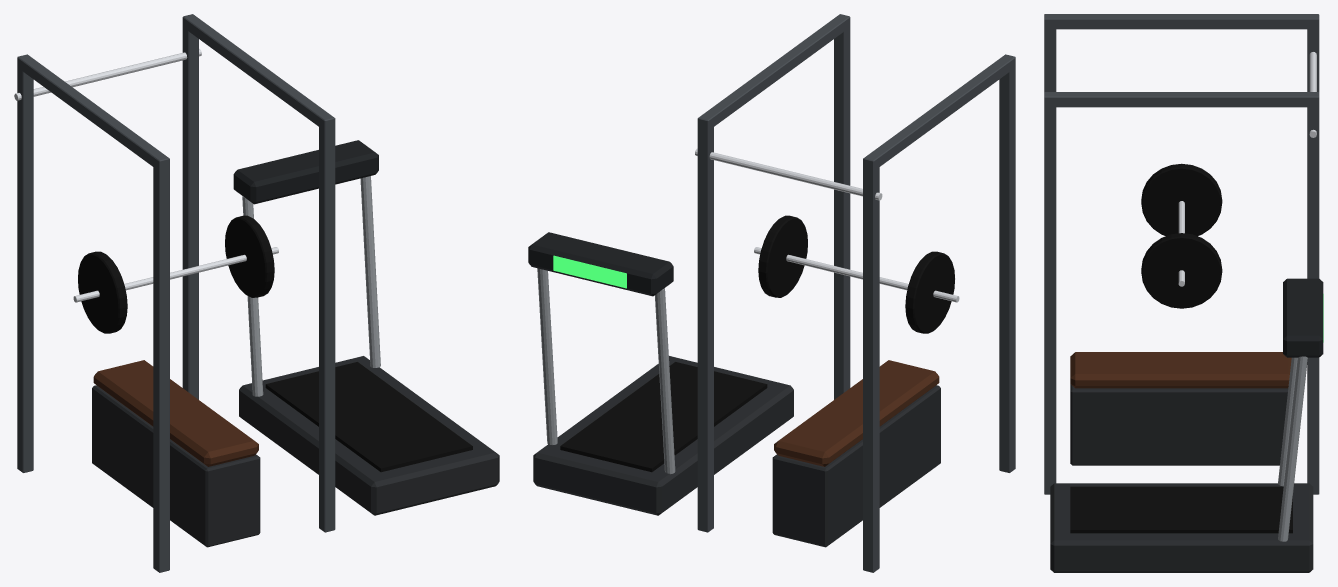
Rendered from gym_rig.glb.
3 views of the same model, side by side, from view 1: azimuth 30°, elevation 25°; view 2: azimuth 150°, elevation 25°; view 3: azimuth 270°, elevation 25° (orthographic). The views are drawn at different scales.
Visible parts, largest first — view 1: gym_rig; view 2: gym_rig; view 3: gym_rig.
Part boxes in pixels (x1,y1,x2,y2): gym_rig: [14, 14, 499, 572]; gym_rig: [528, 14, 1015, 572]; gym_rig: [1044, 14, 1323, 572].
Size of the model in its own units: 2 by 2.2 by 1.4.
